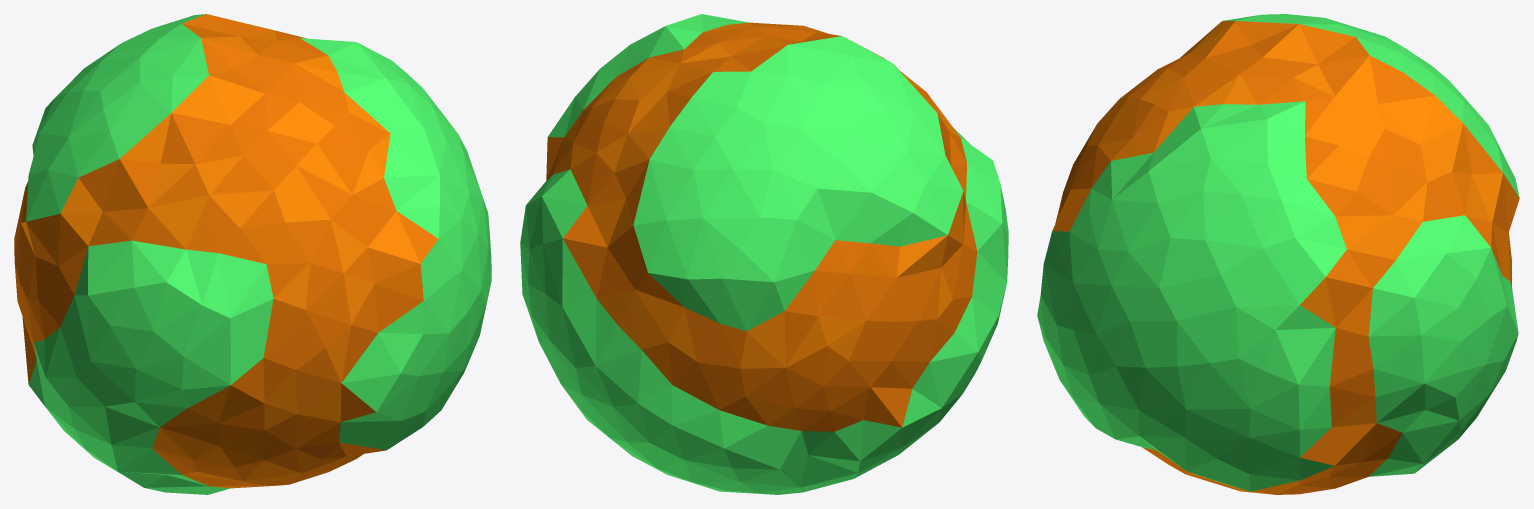
File: planet_7.fbx
The picture shows the model from 3 angles, left to right: view 1: azimuth 30°, elevation 25°; view 2: azimuth 150°, elevation 25°; view 3: azimuth 270°, elevation 25°; orthographic projection.
Parts seen in each view (by area): view 1: planet_7; view 2: planet_7; view 3: planet_7.
Boxes of the visible parts, left/top/right/bottom form: planet_7: left=14, top=14, right=491, bottom=494; planet_7: left=520, top=14, right=1008, bottom=494; planet_7: left=1037, top=14, right=1519, bottom=494.
Size of the model in its own units: 658 by 668 by 670.
